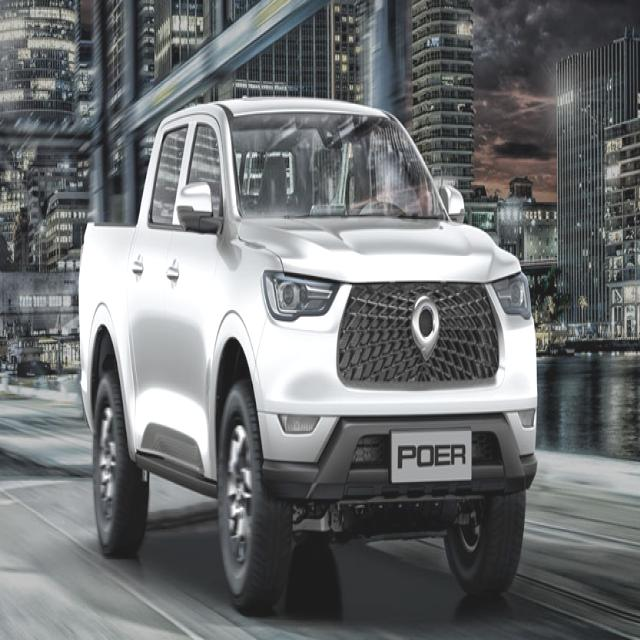CMT: (82, 83, 536, 606)
